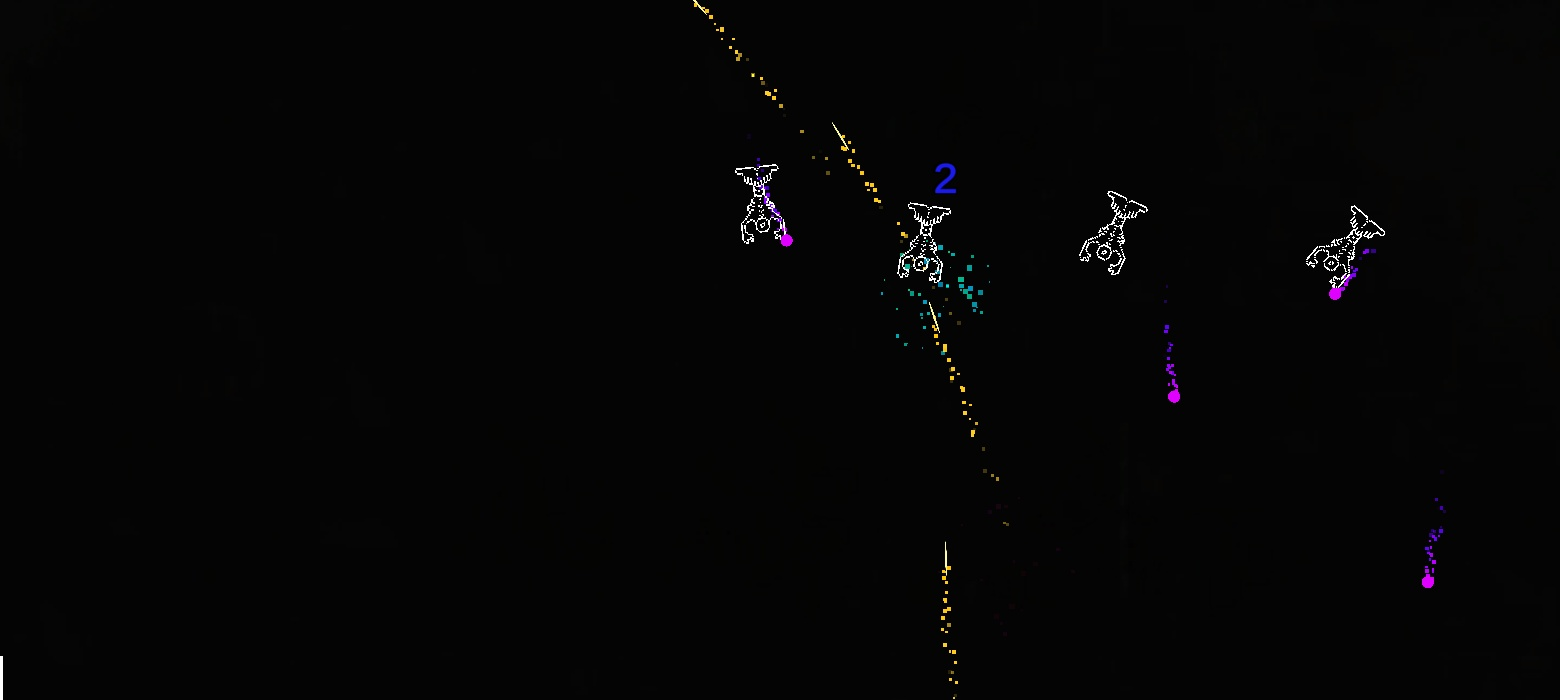enemy: (1305, 205, 1385, 288), (1078, 191, 1148, 275), (896, 202, 952, 283), (735, 164, 787, 244)
